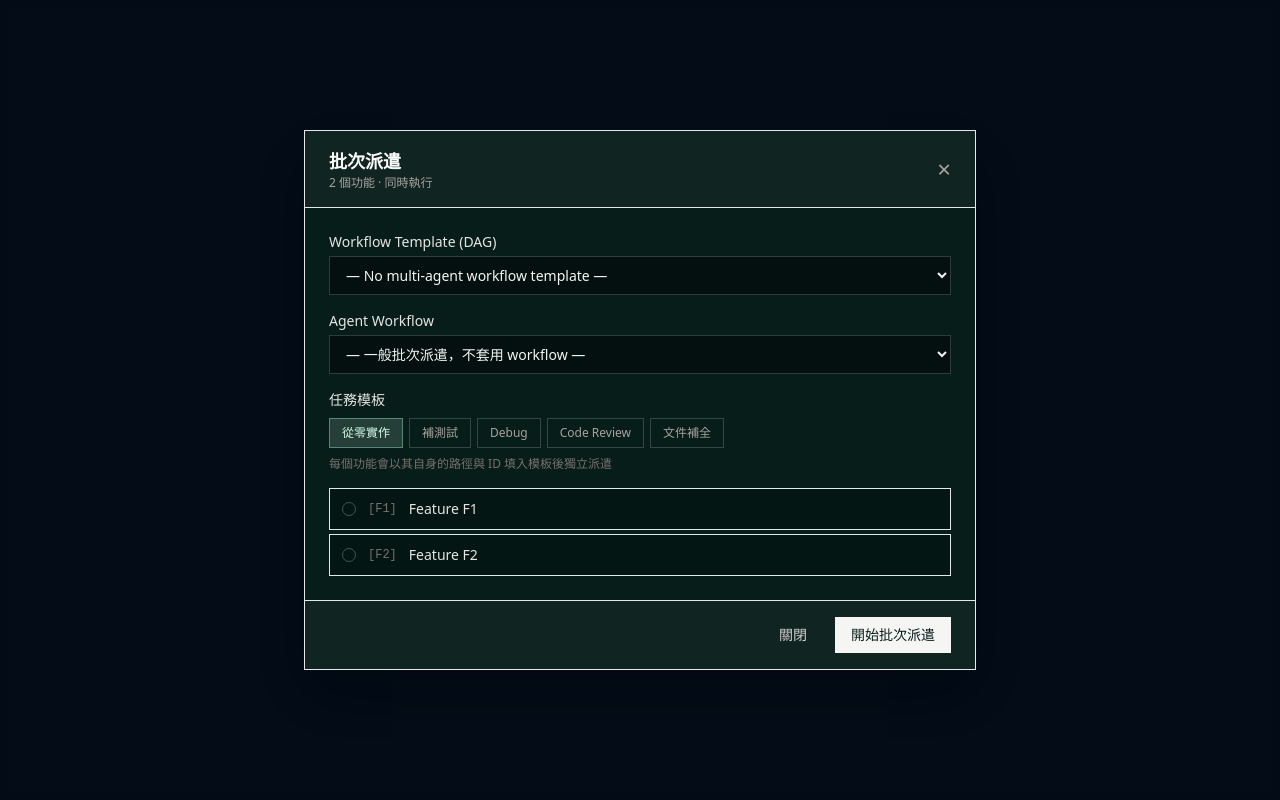
Test: BatchDispatchModal state handling › renders completed and failed summary counts
Click the button "開始批次派遣": (893, 635) top-left (835, 617), bottom-right (951, 653)
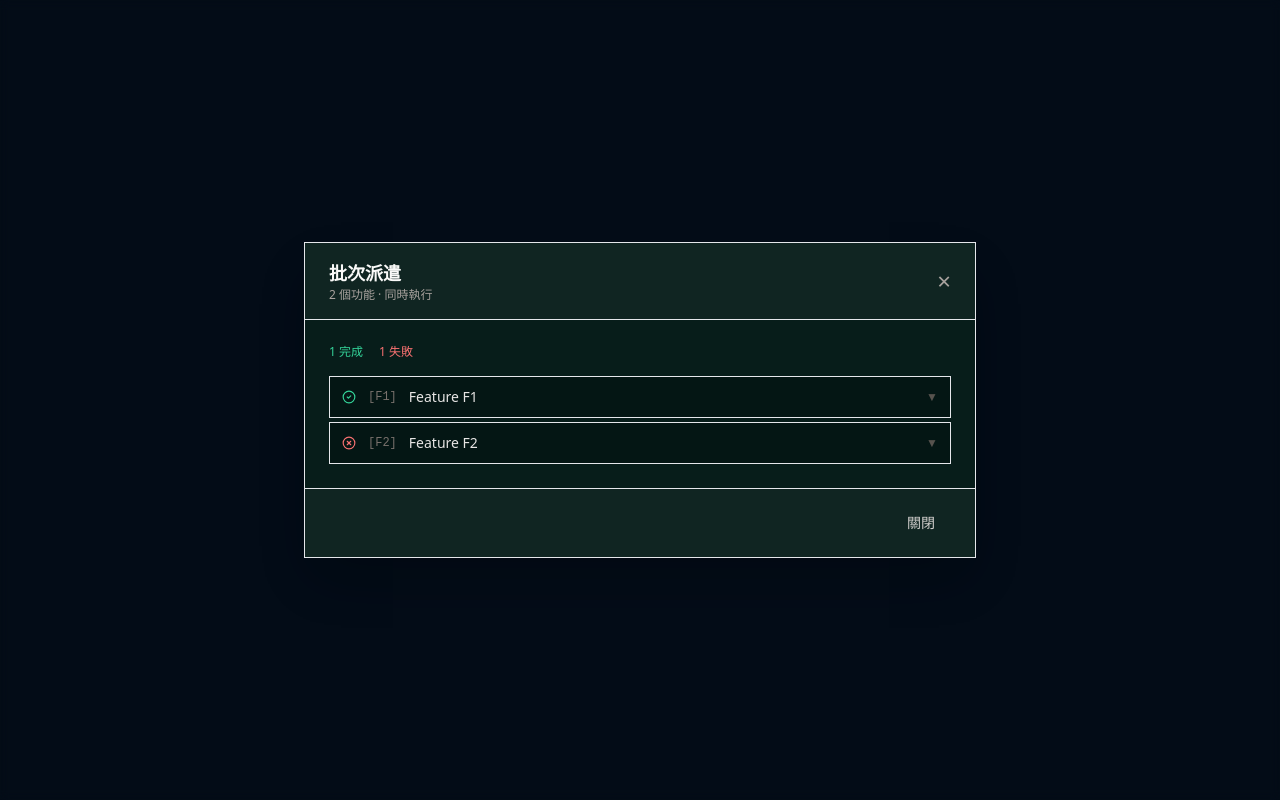
expect the text "1 完成" is shown: met, box top-left (329, 344), bottom-right (363, 360)
expect the text "1 失敗" is shown: met, box top-left (379, 344), bottom-right (413, 360)
